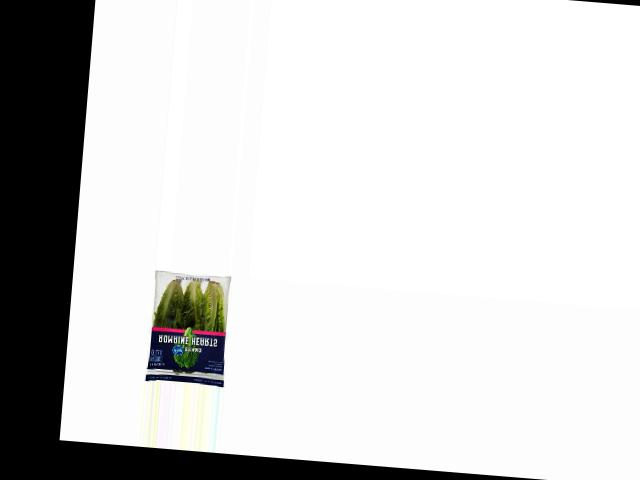lettuce: (142, 273, 235, 385)
